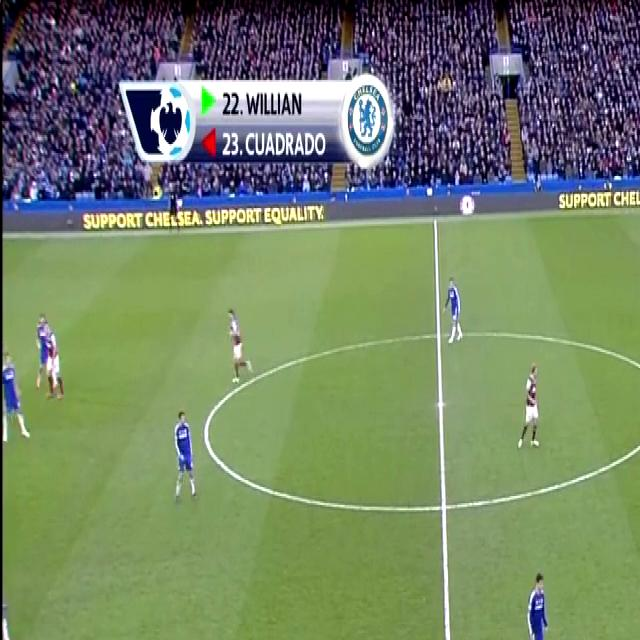soccer-player: (170, 405, 204, 512), (34, 305, 70, 406), (517, 354, 548, 458), (222, 298, 256, 391), (1, 347, 32, 448), (521, 567, 559, 640), (442, 271, 464, 352)
